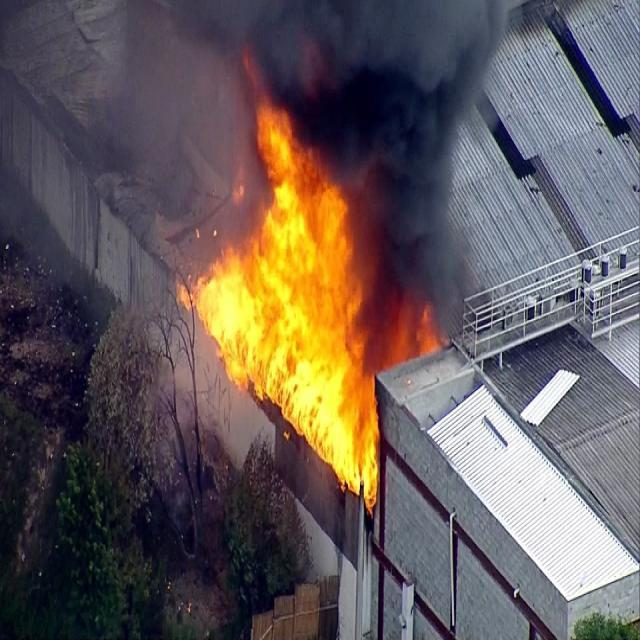Fire: (244, 180, 348, 457), (349, 394, 379, 492), (208, 278, 242, 336)
Smoke: (295, 0, 469, 137), (363, 146, 453, 294)
